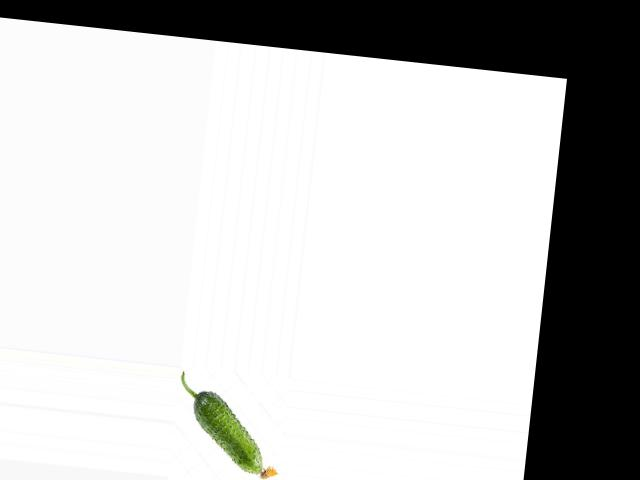cucumber: (171, 371, 288, 480)
